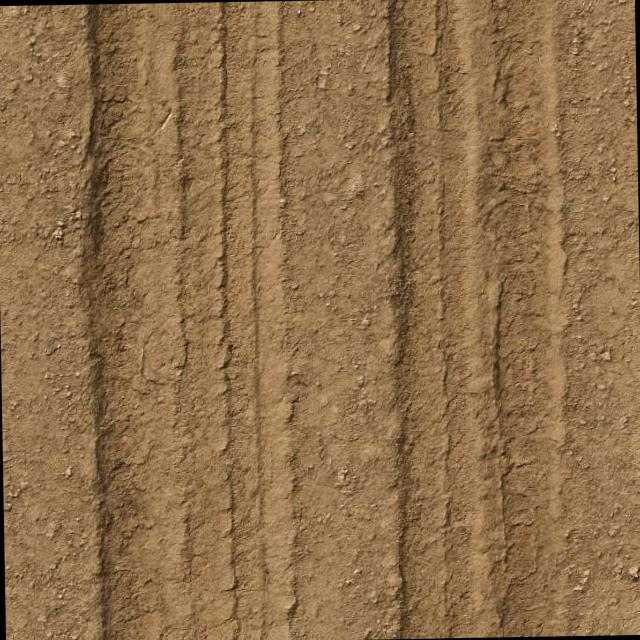suelo_seco: (94, 40, 551, 588)
